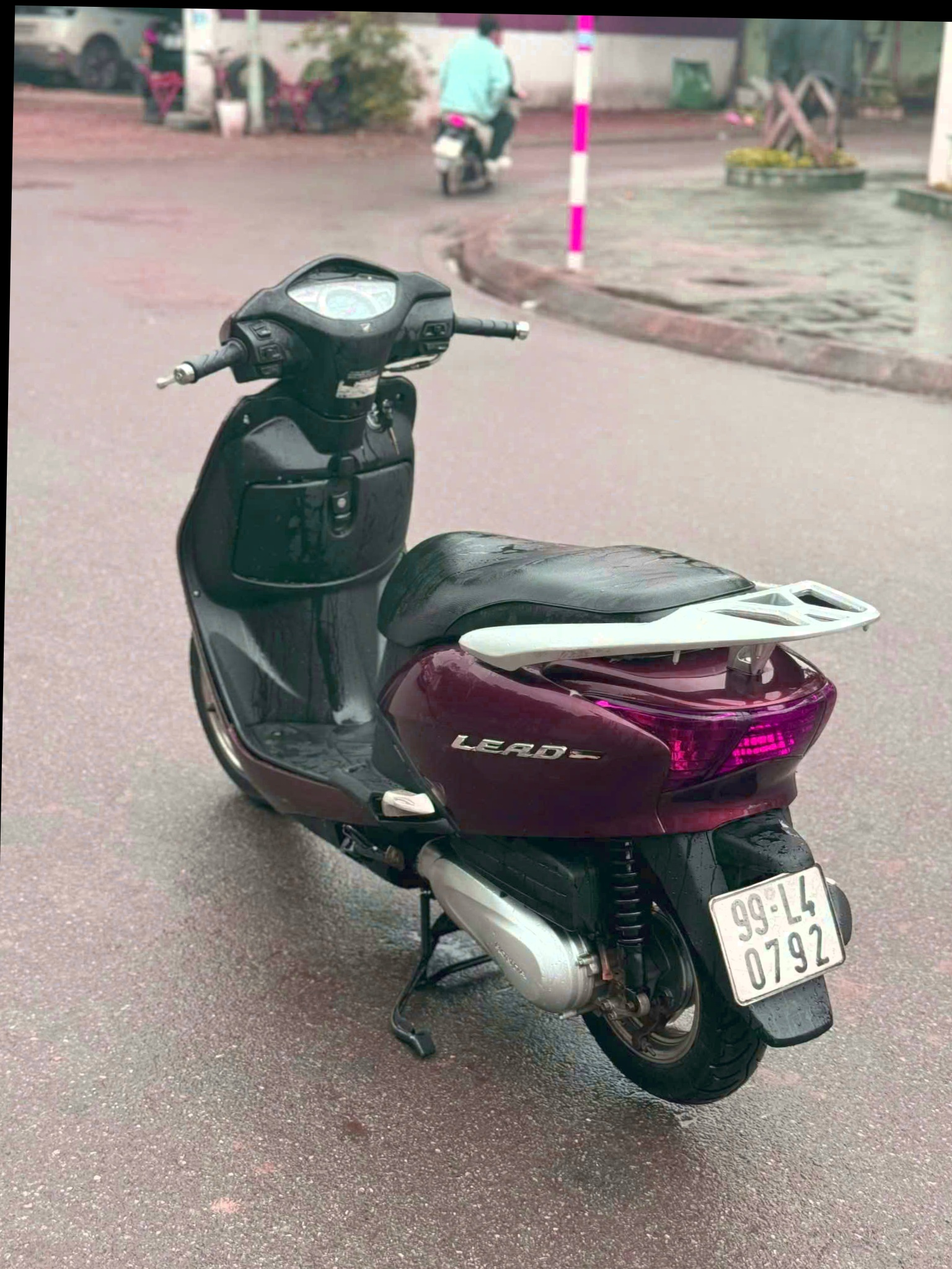Bien-so: (699, 857, 854, 1016)
